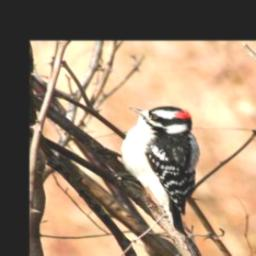Woodpecker: (115, 106, 199, 236)
